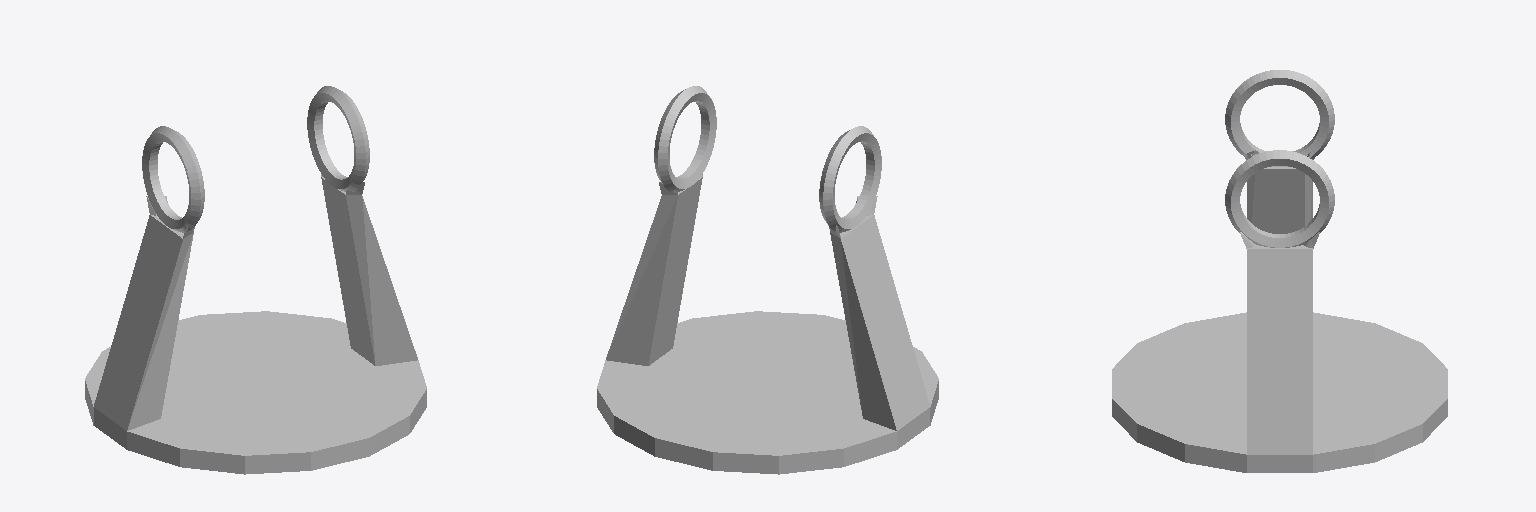
File: Metal_Storm_Aimer.obj
3 renders of one model, left to right at view 1: azimuth 30°, elevation 25°; view 2: azimuth 150°, elevation 25°; view 3: azimuth 270°, elevation 25°, orthographic.
Visible parts, largest first — view 1: Cylinder.002; view 2: Cylinder.002; view 3: Cylinder.002.
Part boxes in pixels (x1,y1,x2,y2): Cylinder.002: (85,86,426,474); Cylinder.002: (597,86,938,474); Cylinder.002: (1112,70,1447,472).
Bounding box in the file's own units: 3.92 × 3.76 × 3.92.